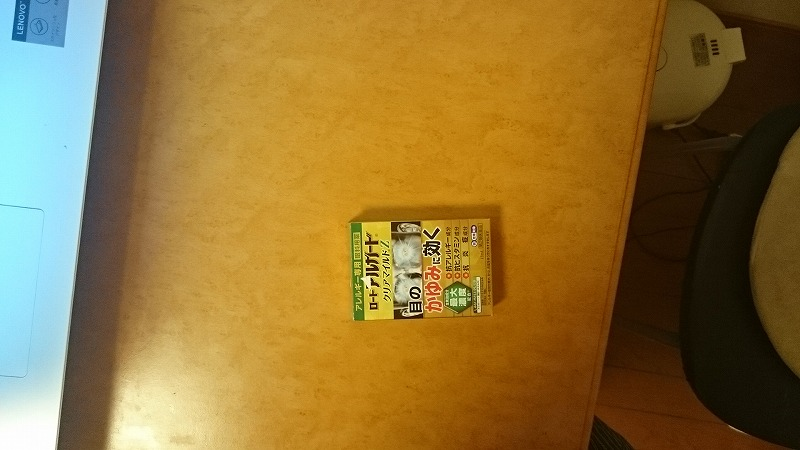C: (343, 212, 498, 331)
